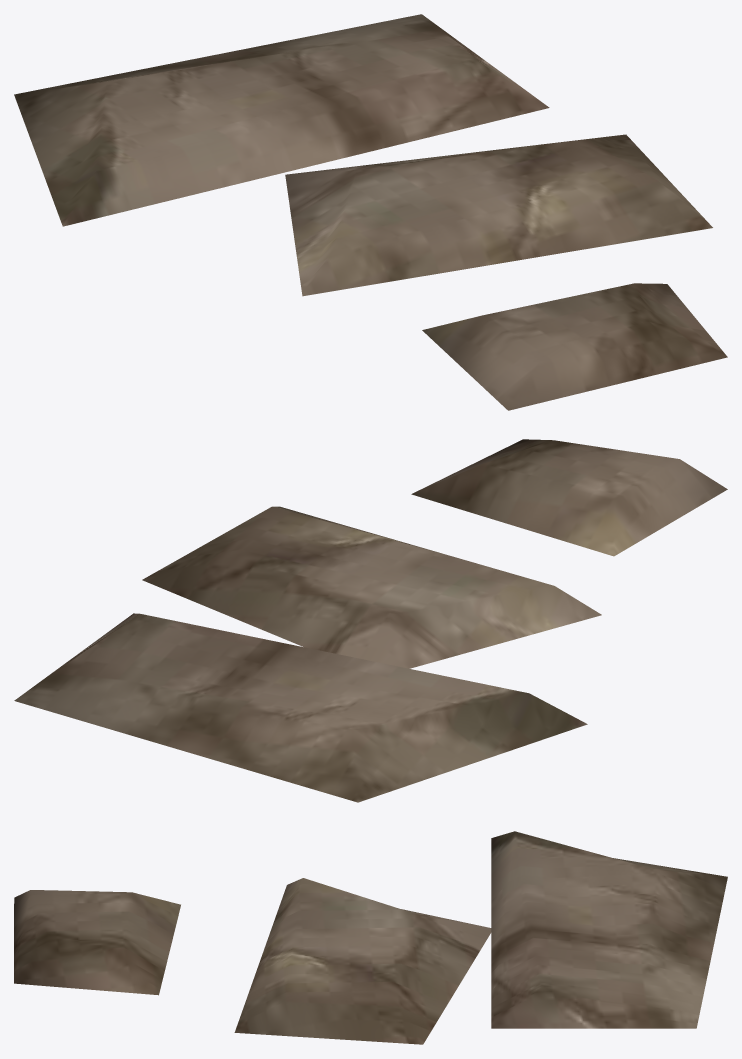
Rendered from SceneStoneStep2.fbx.
3 views of the same model, one above another, from view 1: azimuth 30°, elevation 25°; view 2: azimuth 150°, elevation 25°; view 3: azimuth 270°, elevation 25° (orthographic). The views are drawn at different scales.
Parts seen in each view (by area): view 1: TinyCabinFantasy_Textured_Scene.001; view 2: TinyCabinFantasy_Textured_Scene.001; view 3: TinyCabinFantasy_Textured_Scene.001.
Part boxes in pixels (x1=…): TinyCabinFantasy_Textured_Scene.001: x1=14, y1=14, x2=727, y2=410; TinyCabinFantasy_Textured_Scene.001: x1=14, y1=439, x2=727, y2=802; TinyCabinFantasy_Textured_Scene.001: x1=14, y1=831, x2=727, y2=1044.
Size of the model in its own units: 94.84 by 6.23 by 141.
